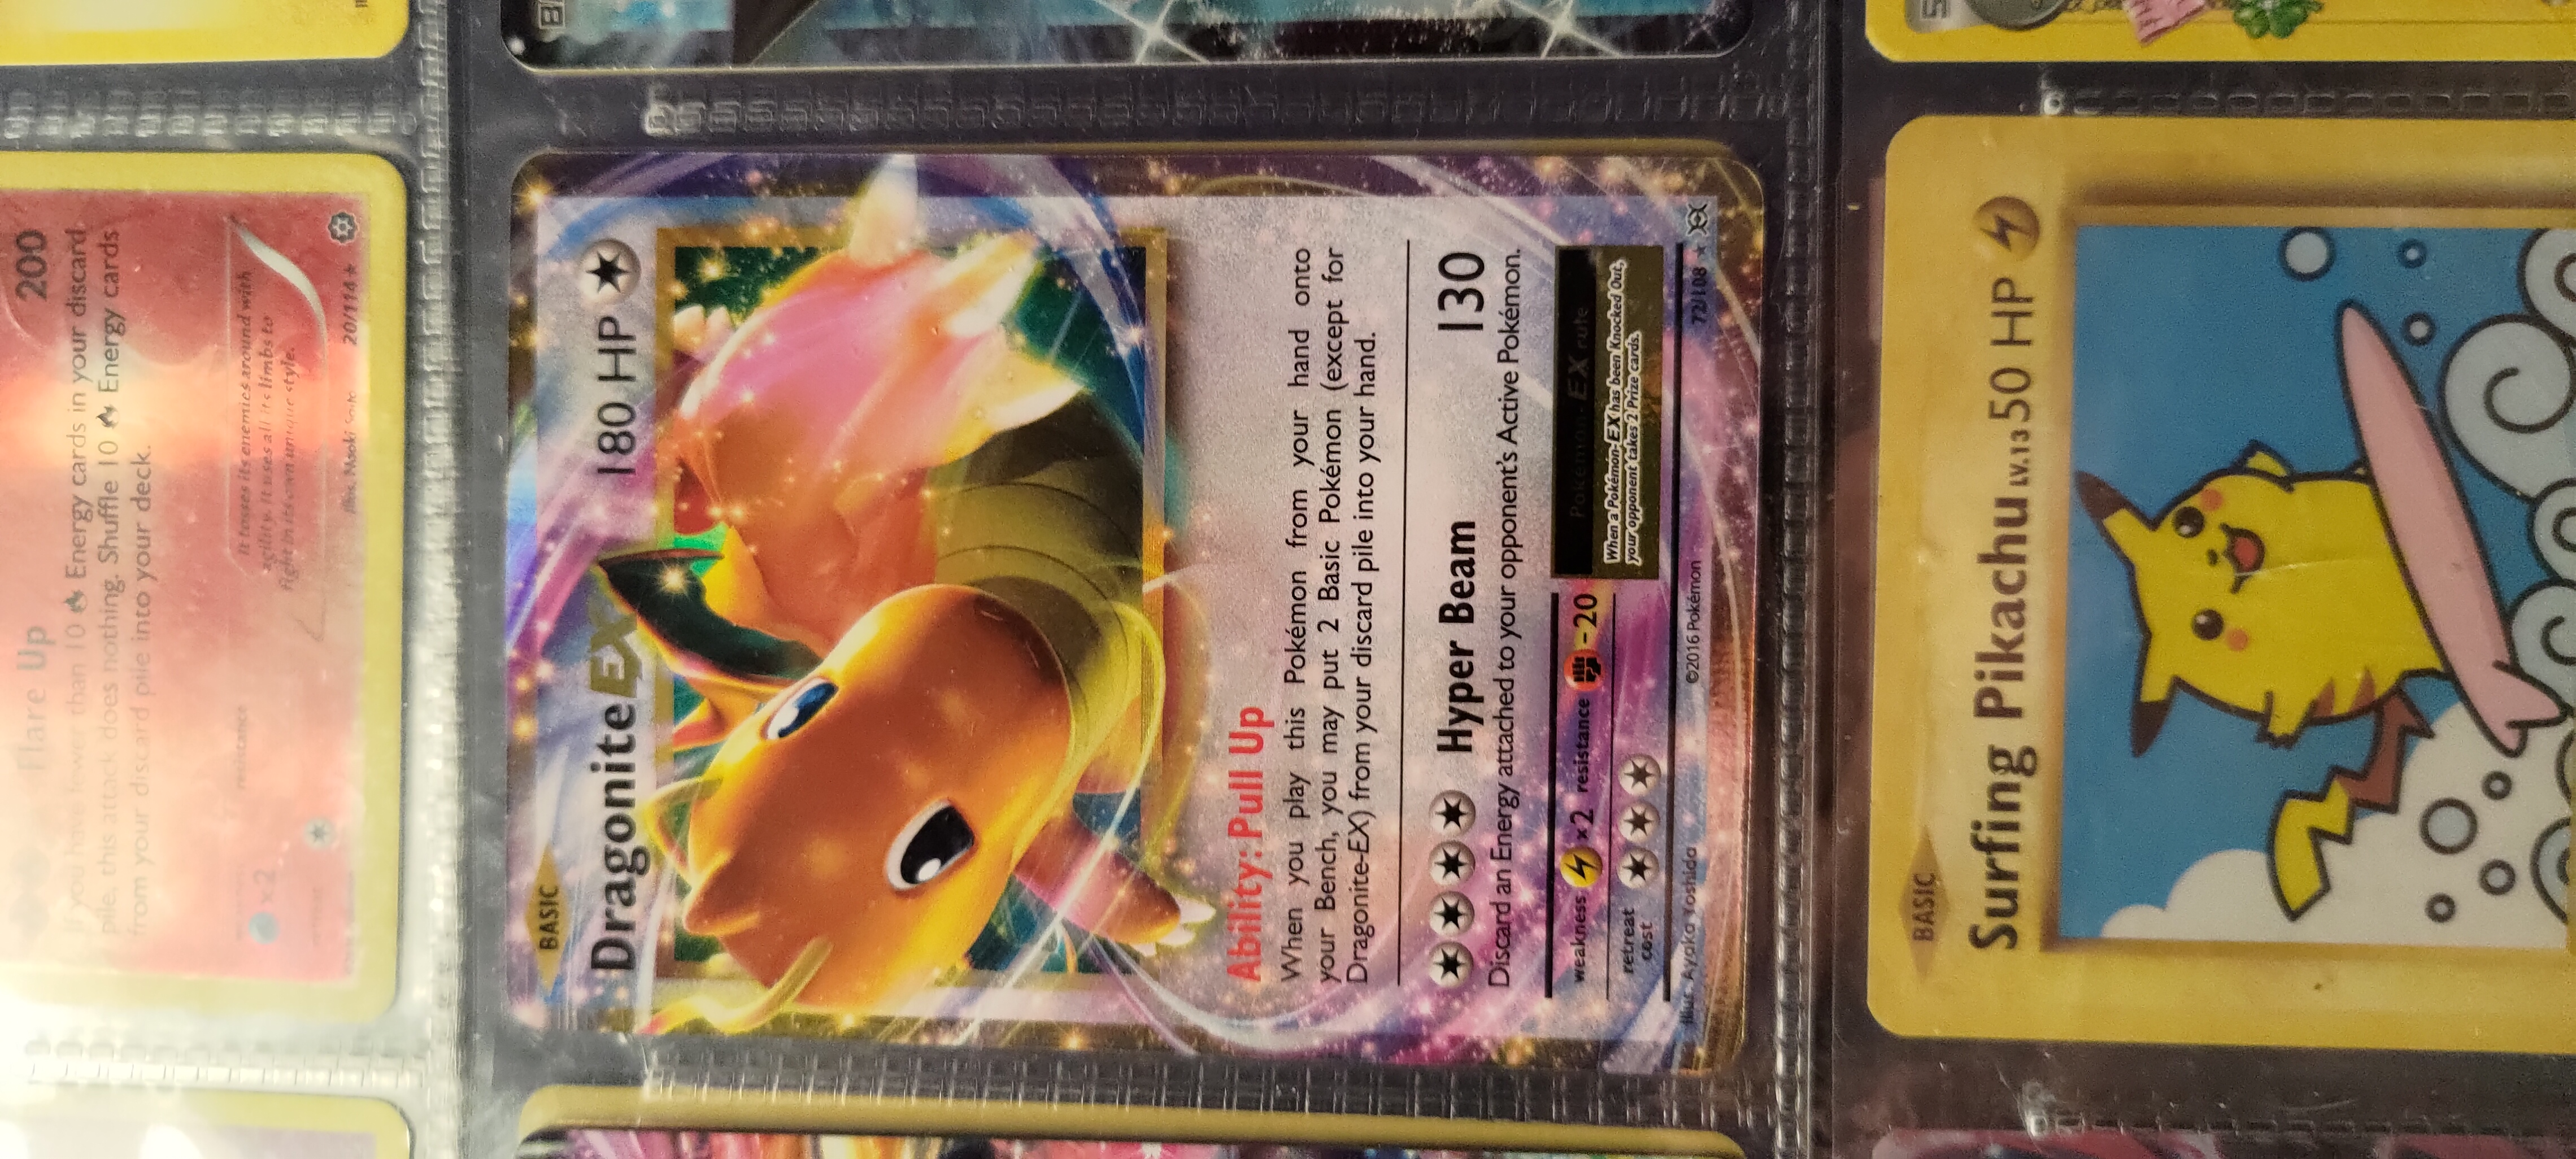pokemon_card: (491, 140, 1771, 1065)
